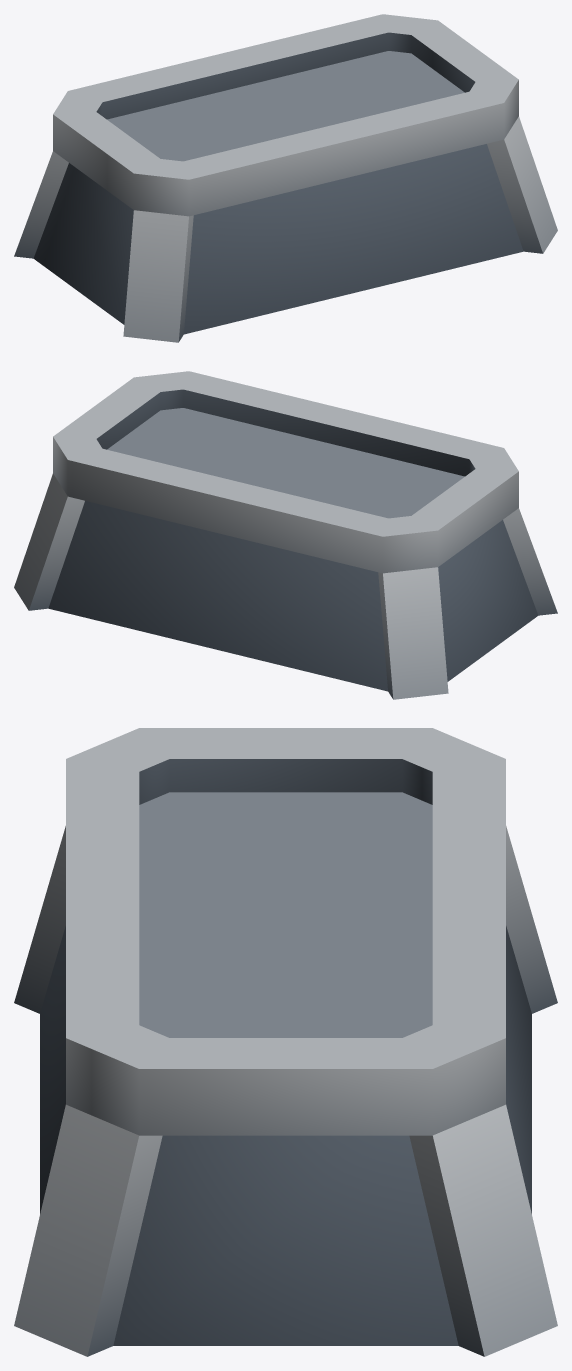
File: table-inset.glb
3 views of the same model, one above another, from view 1: azimuth 30°, elevation 25°; view 2: azimuth 150°, elevation 25°; view 3: azimuth 270°, elevation 25° (orthographic). The views are drawn at different scales.
Visible parts, largest first — view 1: table-inset; view 2: table-inset; view 3: table-inset.
Boxes of the visible parts, x1,y1,x2,y2 form: table-inset: (14,14,557,342); table-inset: (14,371,557,699); table-inset: (14,728,557,1356).
Bounding box in the file's own units: 1.24 × 0.4 × 0.7414.
